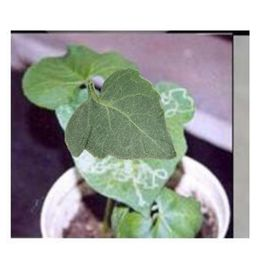liriomyza: (75, 150, 168, 206), (158, 87, 194, 117)
